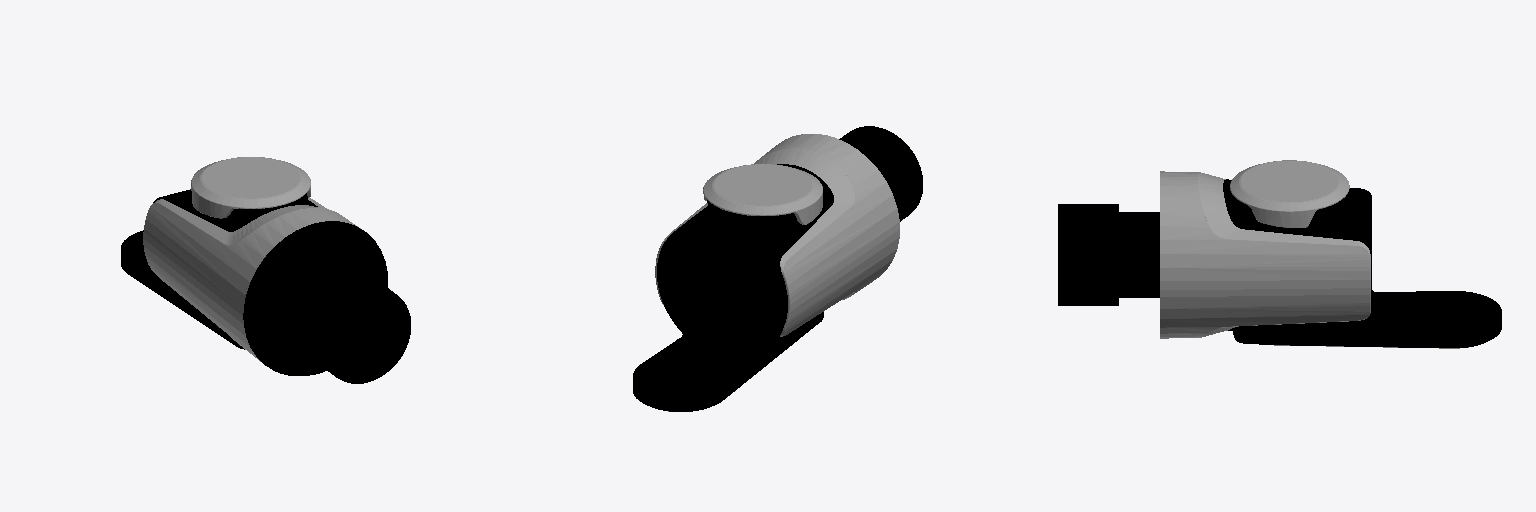
3 views of the same model, side by side, from view 1: azimuth 30°, elevation 25°; view 2: azimuth 150°, elevation 25°; view 3: azimuth 270°, elevation 25° (orthographic).
Parts seen in each view (by area): view 1: left_arm_link5; view 2: left_arm_link5; view 3: left_arm_link5.
Part boxes in pixels (x1,y1,x2,y2): left_arm_link5: (121,157,410,383); left_arm_link5: (633,126,922,411); left_arm_link5: (1058,160,1501,348).
Size of the model in its own units: 0.0816 by 0.0826 by 0.2166.